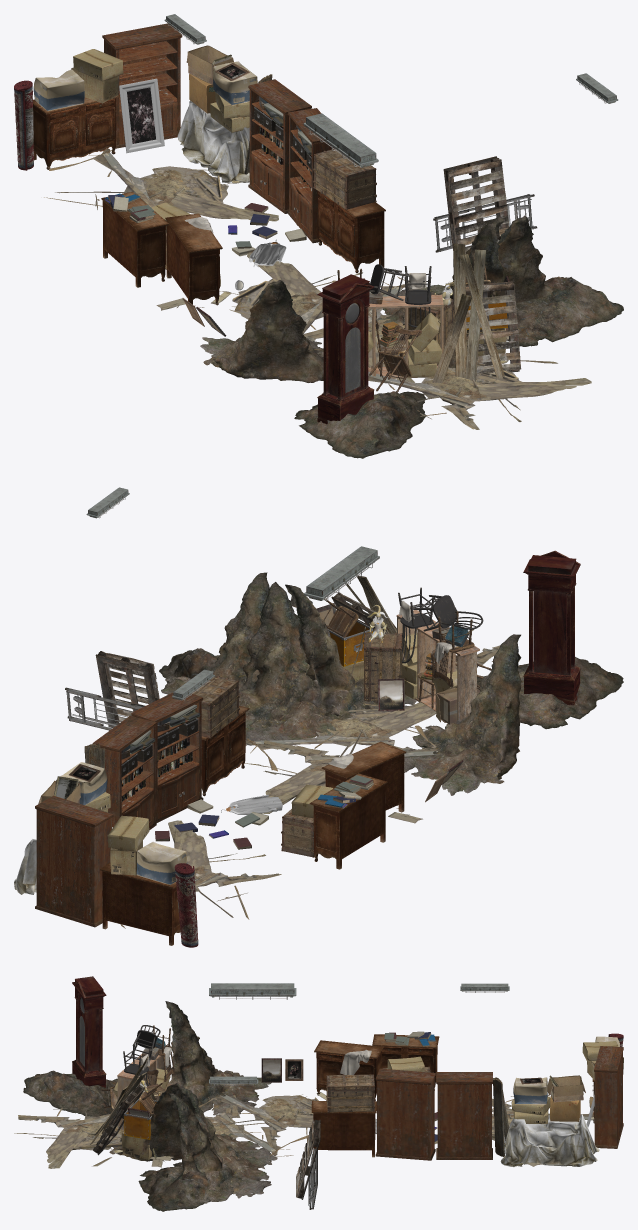
Rendered from sm301_01_604room_01.fbx.
The picture shows the model from 3 angles, top to bottom: view 1: azimuth 30°, elevation 25°; view 2: azimuth 150°, elevation 25°; view 3: azimuth 270°, elevation 25°; orthographic projection. The views are drawn at different scales.
Parts seen in each view (by area): view 1: 0120_sm30109Lowchest01A00ms_1_Group_0_Sub_1__sm30_109_L_93d0, 0025_sm20012debris0000ms_1_Group_0_Sub_1__sm20_012_debr_d38f, 0027_sm20015Filth01A00ms_1_Group_0_Sub_1__sm20_015_Filt_2cca, 0028_sm20016Filth02A00ms_1_Group_0_Sub_1__sm20_016_Filt_d968, 0124_sm39069ShelfSet01A00ms_1_Group_0_Sub_4__sm30_099_S_76ba, 0036_sm31051Clock01A00ms_1_Group_0_Sub_1__sm31_051_Cloc_6b35, 0122_sm30099SlideShelf01A00ms_1_Group_0_Sub_1__sm30_099_5fe1, 0031_sm39148RickerBarricade01A00ms_1_Group_0_Sub_7__sm2_ca8f, 0191_sm30150PlasticSheet01A00ms_1_Group_0_Sub_1__sm30_1_91aa, 0074_sm26004WoodenBox01A00ms_1_Group_0_Sub_1__sm26_004__208d, 0200_sm36003Cardboard02A00ms_1_Group_0_Sub_1__sm36_003__2fc4, 0088_sm36004Cardboard03A00ms_1_Group_0_Sub_1__sm36_004__b3a9 (+19 smaller); view 2: 0027_sm20015Filth01A00ms_1_Group_0_Sub_1__sm20_015_Filt_2cca, 0120_sm30109Lowchest01A00ms_1_Group_0_Sub_1__sm30_109_L_93d0, 0025_sm20012debris0000ms_1_Group_0_Sub_1__sm20_012_debr_d38f, 0122_sm30099SlideShelf01A00ms_1_Group_0_Sub_1__sm30_099_5fe1, 0124_sm39069ShelfSet01A00ms_1_Group_0_Sub_4__sm30_099_S_76ba, 0036_sm31051Clock01A00ms_1_Group_0_Sub_1__sm31_051_Cloc_6b35, 0028_sm20016Filth02A00ms_1_Group_0_Sub_1__sm20_016_Filt_d968, 0074_sm26004WoodenBox01A00ms_1_Group_0_Sub_1__sm26_004__208d, 0052_sm39148RickerBarricade01A00ms_1_Group_0_Sub_1__sm3_2262, 0200_sm36003Cardboard02A00ms_1_Group_0_Sub_1__sm36_003__2fc4, 0088_sm36004Cardboard03A00ms_1_Group_0_Sub_1__sm36_004__b3a9, 0073_sm39148RickerBarricade01A00ms_1_Group_0_Sub_10__sm_7511 (+18 smaller); view 3: 0027_sm20015Filth01A00ms_1_Group_0_Sub_1__sm20_015_Filt_2cca, 0124_sm39069ShelfSet01A00ms_1_Group_0_Sub_4__sm30_099_S_76ba, 0025_sm20012debris0000ms_1_Group_0_Sub_1__sm20_012_debr_d38f, 0120_sm30109Lowchest01A00ms_1_Group_0_Sub_1__sm30_109_L_93d0, 0028_sm20016Filth02A00ms_1_Group_0_Sub_1__sm20_016_Filt_d968, 0191_sm30150PlasticSheet01A00ms_1_Group_0_Sub_1__sm30_1_91aa, 0122_sm30099SlideShelf01A00ms_1_Group_0_Sub_1__sm30_099_5fe1, 0036_sm31051Clock01A00ms_1_Group_0_Sub_1__sm31_051_Cloc_6b35, 0074_sm26004WoodenBox01A00ms_1_Group_0_Sub_1__sm26_004__208d, 0088_sm36004Cardboard03A00ms_1_Group_0_Sub_1__sm36_004__b3a9, 0213_sm35046OffFluorescentLight02A00ms_1_Group_0_Sub_2__600f, 0071_sm39148RickerBarricade01A00ms_1_Group_0_Sub_9__sm3_63e4 (+15 smaller).
Boxes of the visible parts, x1,y1,x2,y2 form: 0120_sm30109Lowchest01A00ms_1_Group_0_Sub_1__sm30_109_L_93d0: (33, 95, 385, 305); 0025_sm20012debris0000ms_1_Group_0_Sub_1__sm20_012_debr_d38f: (44, 148, 591, 429); 0027_sm20015Filth01A00ms_1_Group_0_Sub_1__sm20_015_Filt_2cca: (200, 215, 552, 382); 0028_sm20016Filth02A00ms_1_Group_0_Sub_1__sm20_016_Filt_d968: (294, 276, 623, 458); 0124_sm39069ShelfSet01A00ms_1_Group_0_Sub_4__sm30_099_S_76ba: (248, 79, 334, 243); 0036_sm31051Clock01A00ms_1_Group_0_Sub_1__sm31_051_Cloc_6b35: (317, 274, 374, 423); 0122_sm30099SlideShelf01A00ms_1_Group_0_Sub_1__sm30_099_5fe1: (102, 23, 182, 148); 0031_sm39148RickerBarricade01A00ms_1_Group_0_Sub_7__sm2_ca8f: (432, 243, 504, 382); 0191_sm30150PlasticSheet01A00ms_1_Group_0_Sub_1__sm30_1_91aa: (177, 100, 249, 183); 0074_sm26004WoodenBox01A00ms_1_Group_0_Sub_1__sm26_004__208d: (165, 148, 376, 269); 0200_sm36003Cardboard02A00ms_1_Group_0_Sub_1__sm36_003__2fc4: (33, 61, 257, 111); 0088_sm36004Cardboard03A00ms_1_Group_0_Sub_1__sm36_004__b3a9: (73, 49, 249, 232); 0027_sm20015Filth01A00ms_1_Group_0_Sub_1__sm20_015_Filt_2cca: (161, 572, 521, 795); 0120_sm30109Lowchest01A00ms_1_Group_0_Sub_1__sm30_109_L_93d0: (100, 706, 406, 945); 0025_sm20012debris0000ms_1_Group_0_Sub_1__sm20_012_debr_d38f: (120, 628, 500, 928); 0122_sm30099SlideShelf01A00ms_1_Group_0_Sub_1__sm30_099_5fe1: (35, 795, 113, 927); 0124_sm39069ShelfSet01A00ms_1_Group_0_Sub_4__sm30_099_S_76ba: (92, 692, 203, 830); 0036_sm31051Clock01A00ms_1_Group_0_Sub_1__sm31_051_Cloc_6b35: (523, 550, 580, 705); 0028_sm20016Filth02A00ms_1_Group_0_Sub_1__sm20_016_Filt_d968: (159, 648, 623, 729); 0074_sm26004WoodenBox01A00ms_1_Group_0_Sub_1__sm26_004__208d: (192, 675, 314, 857); 0052_sm39148RickerBarricade01A00ms_1_Group_0_Sub_1__sm3_2262: (396, 610, 479, 720); 0200_sm36003Cardboard02A00ms_1_Group_0_Sub_1__sm36_003__2fc4: (60, 762, 187, 884); 0088_sm36004Cardboard03A00ms_1_Group_0_Sub_1__sm36_004__b3a9: (85, 784, 332, 851); 0073_sm39148RickerBarricade01A00ms_1_Group_0_Sub_10__sm_7511: (363, 632, 402, 703); 0027_sm20015Filth01A00ms_1_Group_0_Sub_1__sm20_015_Filt_2cca: (109, 1001, 277, 1203); 0124_sm39069ShelfSet01A00ms_1_Group_0_Sub_4__sm30_099_S_76ba: (375, 1068, 492, 1160); 0025_sm20012debris0000ms_1_Group_0_Sub_1__sm20_012_debr_d38f: (14, 1088, 594, 1168); 0120_sm30109Lowchest01A00ms_1_Group_0_Sub_1__sm30_109_L_93d0: (311, 1034, 594, 1157); 0028_sm20016Filth02A00ms_1_Group_0_Sub_1__sm20_016_Filt_d968: (23, 1070, 233, 1211); 0191_sm30150PlasticSheet01A00ms_1_Group_0_Sub_1__sm30_1_91aa: (500, 1114, 599, 1167); 0122_sm30099SlideShelf01A00ms_1_Group_0_Sub_1__sm30_099_5fe1: (594, 1046, 623, 1148); 0036_sm31051Clock01A00ms_1_Group_0_Sub_1__sm31_051_Cloc_6b35: (72, 976, 106, 1087); 0074_sm26004WoodenBox01A00ms_1_Group_0_Sub_1__sm26_004__208d: (326, 1066, 430, 1112); 0088_sm36004Cardboard03A00ms_1_Group_0_Sub_1__sm36_004__b3a9: (387, 1041, 618, 1123); 0213_sm35046OffFluorescentLight02A00ms_1_Group_0_Sub_2__600f: (209, 983, 296, 999); 0071_sm39148RickerBarricade01A00ms_1_Group_0_Sub_9__sm3_63e4: (101, 1025, 174, 1115).
Size of the model in its own units: 7.78 by 3.52 by 13.46.
